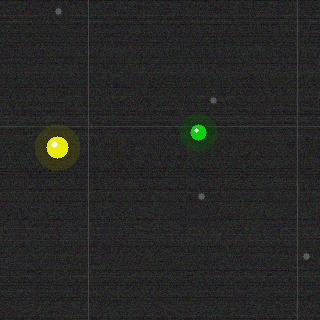green_normal: (188, 122, 208, 142)
yellow_warning: (44, 134, 70, 160)
